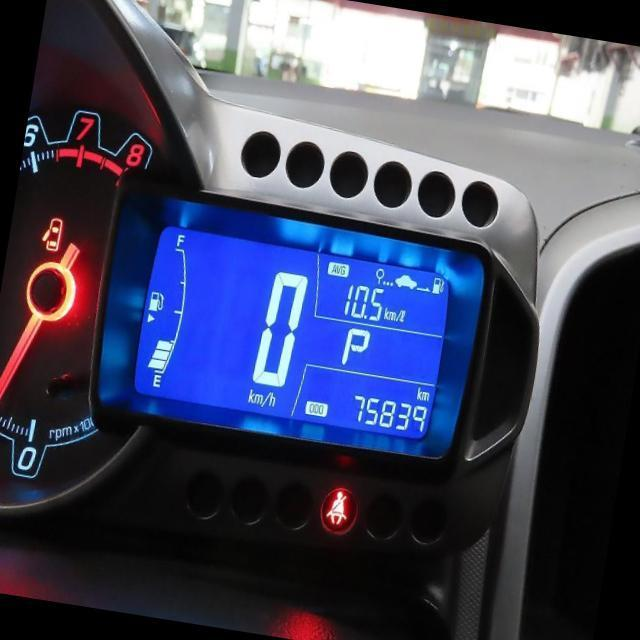Doors: (40, 214, 64, 252)
